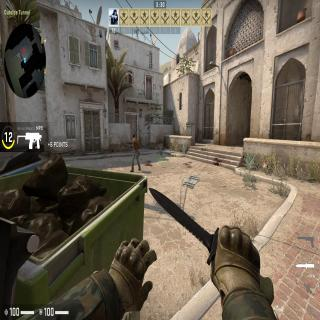T-Body: (130, 133, 141, 172)
T-Head: (132, 134, 135, 139)
